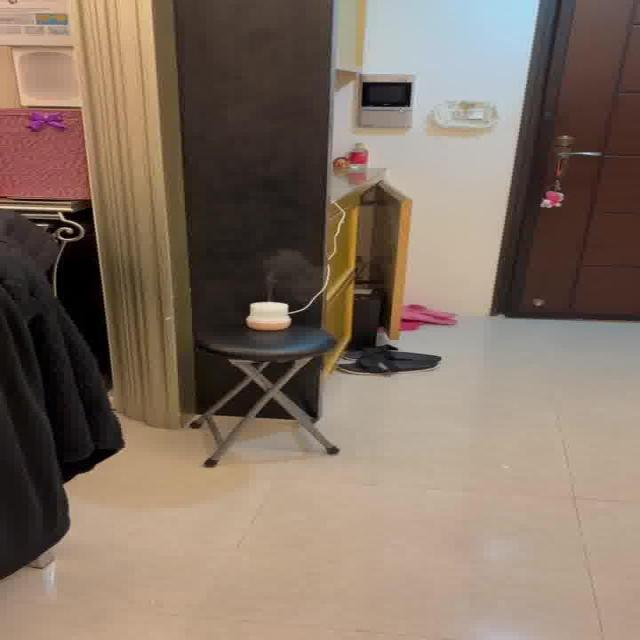fire: (258, 247, 314, 295)
